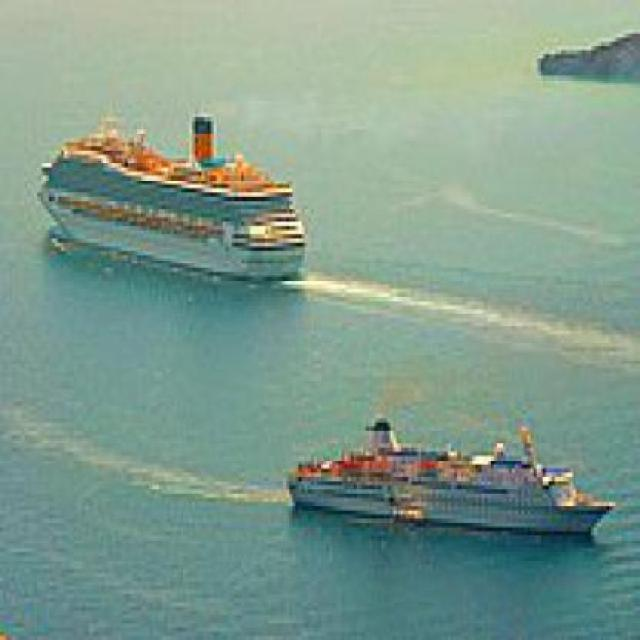cruise: (23, 93, 312, 290), (281, 411, 284, 416)
